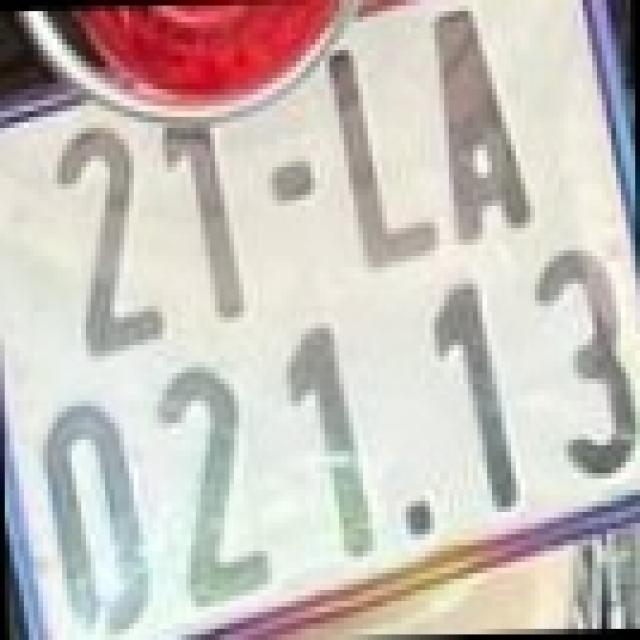0: (38, 395, 153, 629)
1: (282, 312, 382, 562), (425, 272, 525, 518), (160, 103, 260, 331)
2: (153, 356, 277, 607), (48, 117, 167, 362)
3: (530, 239, 640, 479)
A: (425, 11, 540, 245)
L: (325, 44, 439, 272)
